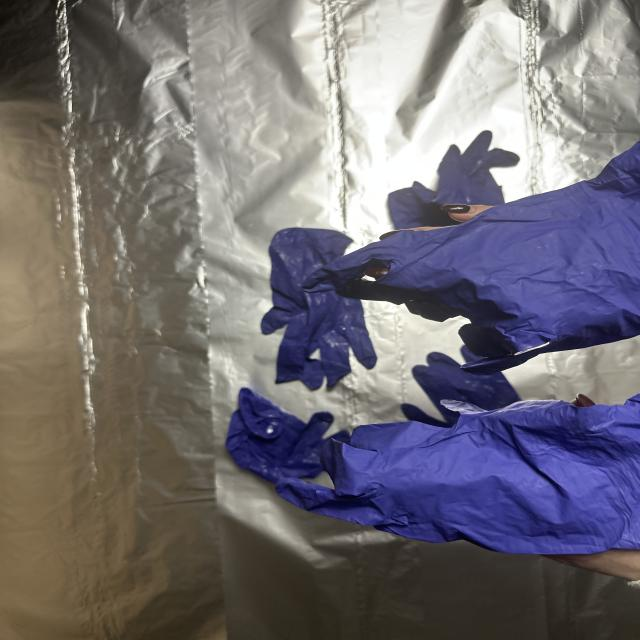glove_not_fitted: (298, 170, 640, 374), (293, 393, 640, 587)
